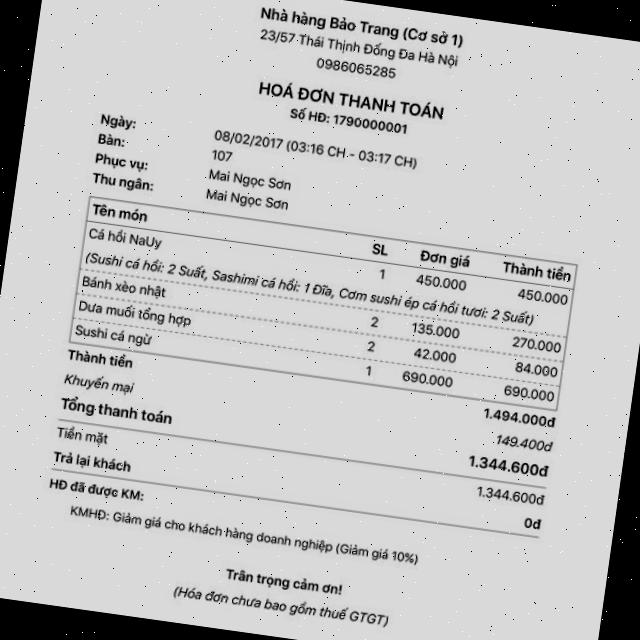Date: (209, 123, 286, 154)
Store_Name: (256, 2, 468, 52)
amount_number: (461, 450, 542, 480)
label_total: (57, 394, 175, 431)
